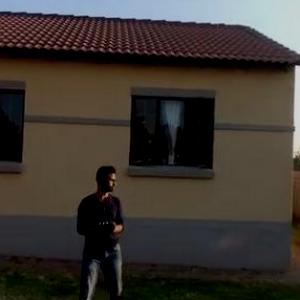follow: (72, 161, 129, 299)
